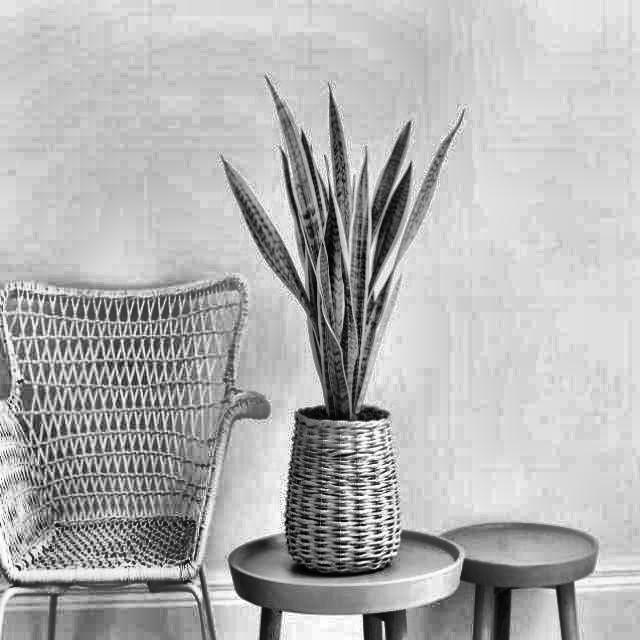plants: (249, 127, 472, 414)
